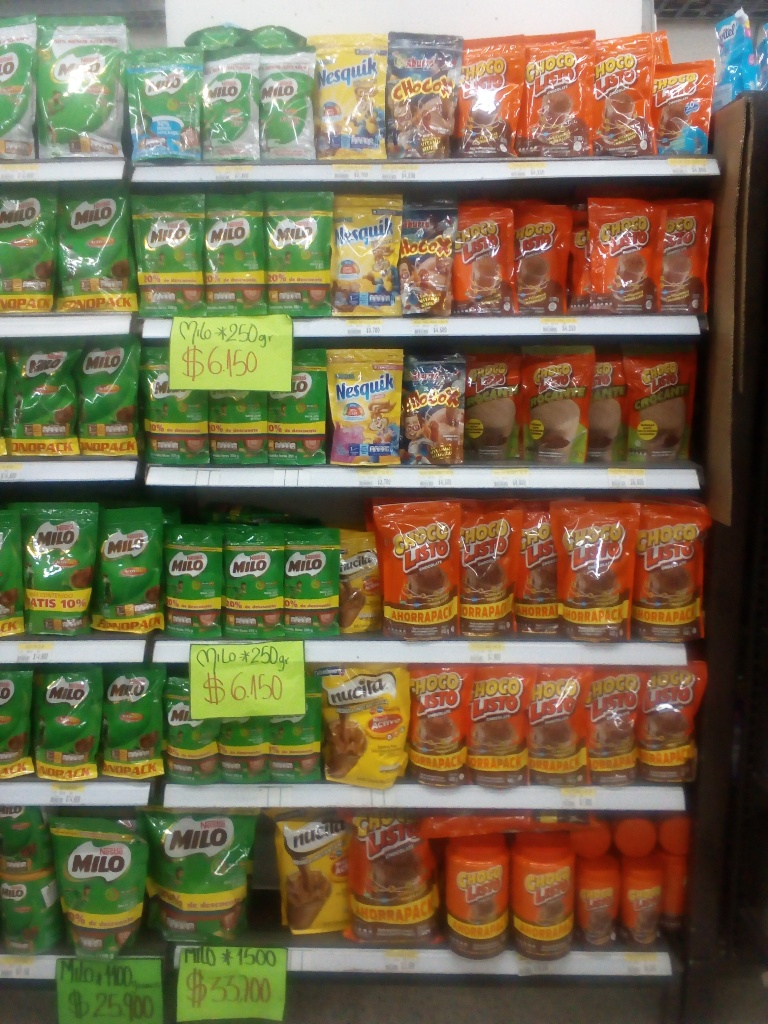COL0170102DYP25000: (455, 345, 525, 463)
COL0170103DYP1,500: (342, 809, 444, 949)
COL0170103DYP20000: (446, 203, 518, 312)
COL0170103DYP44000: (643, 664, 712, 785)
COL0170103TRR00100: (445, 833, 511, 957)
COL0170103TRR30000: (581, 856, 618, 946)
COL0170104DYP20000: (660, 60, 713, 159)
COL0170203DYP25000: (127, 190, 205, 316)
COL0170203DYP50000: (31, 667, 104, 789)
COL0170205DYP20000: (119, 43, 208, 160)
COL0170205DYP50000: (2, 7, 42, 161)
COL0170303DYP20000: (324, 192, 402, 317)
COL0170305DYP20000: (322, 346, 408, 466)
